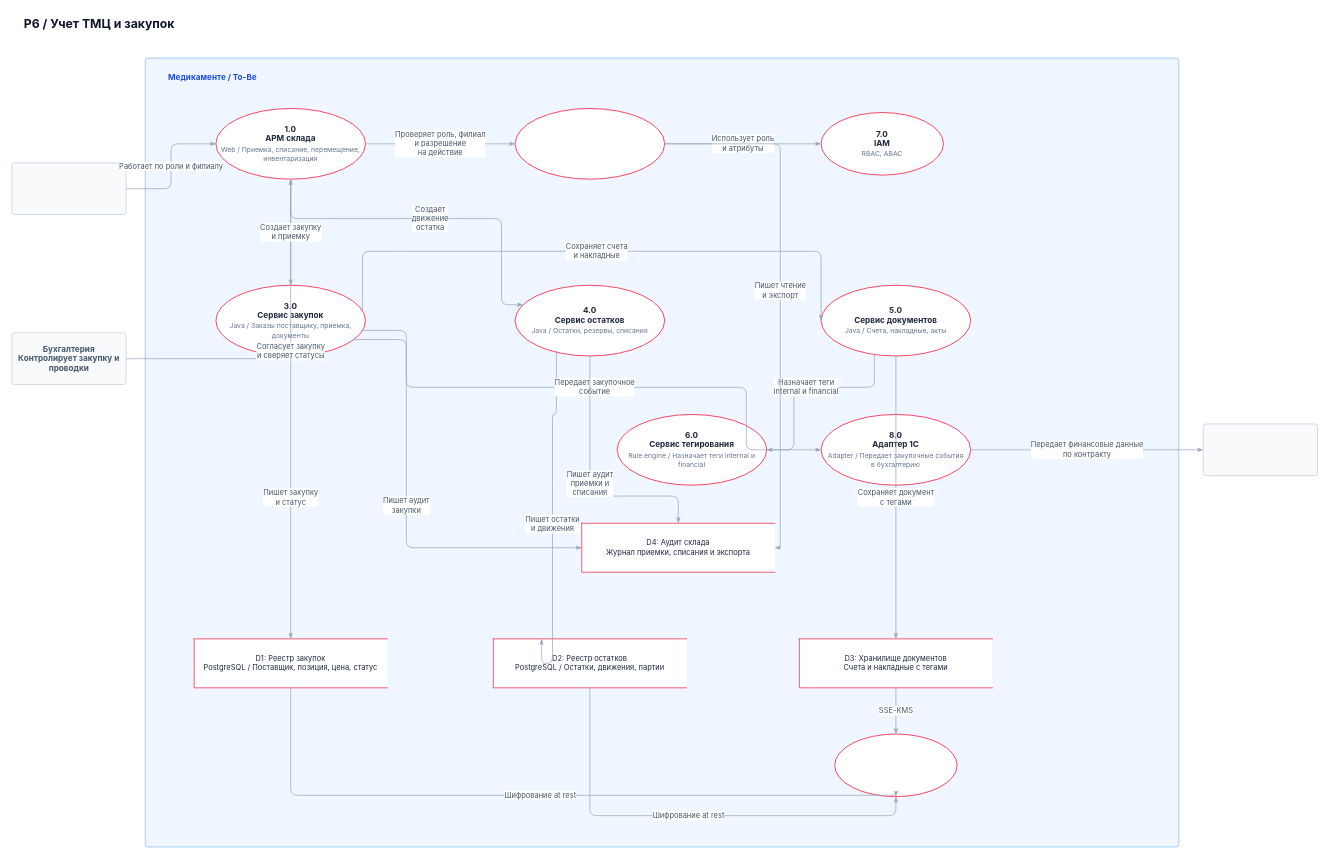
Image size: 1330x859. Some labels were removed from this diagram. Each missing label, with the centre of its shape:
1С:Бухгалтерия Внешний переходный финансовый контур: (x=1260, y=449)
2.0 Policy enforcement ABAC + tags / Проверяет роль, филиал и право на закупку: (x=589, y=143)
9.0 KMS Ключи шифрования: (x=895, y=765)
Склад Работает с остатками и приемкой: (x=68, y=188)
